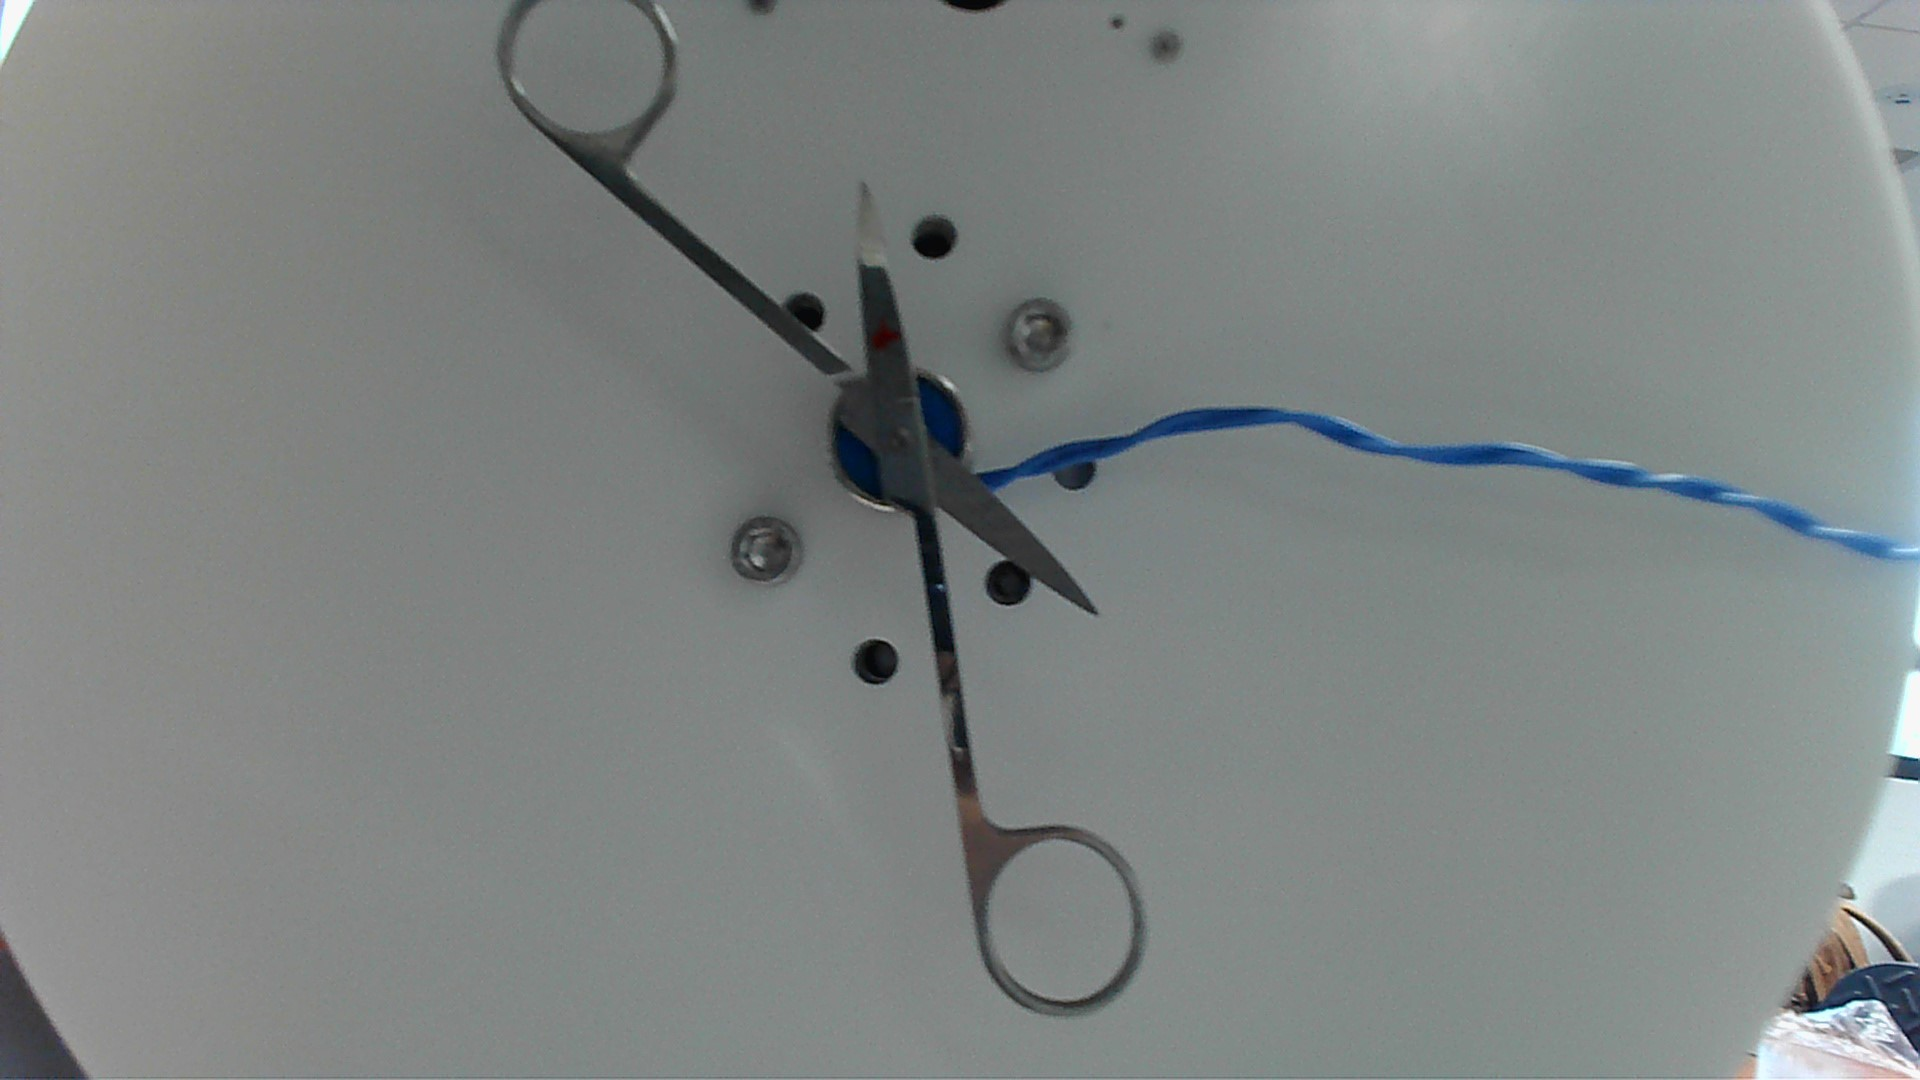Stain: (865, 324, 909, 353)
